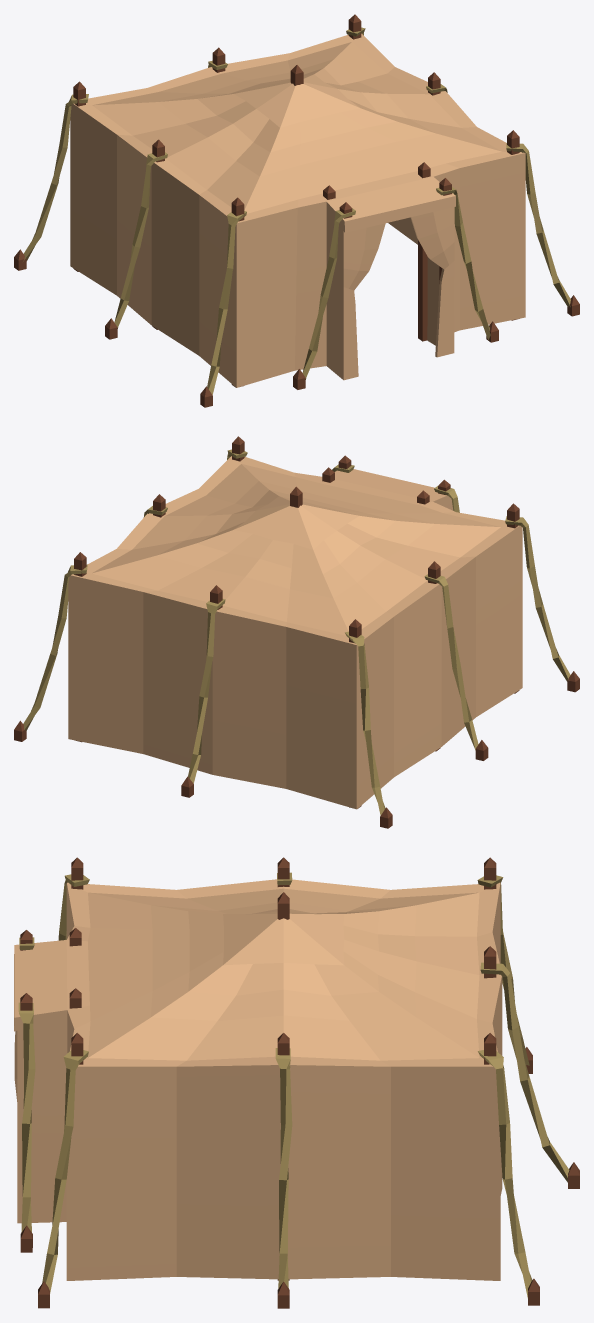
File: tent_big.fbx
3 views of the same model, one above another, from view 1: azimuth 30°, elevation 25°; view 2: azimuth 150°, elevation 25°; view 3: azimuth 270°, elevation 25° (orthographic). The views are drawn at different scales.
Visible parts, largest first — view 1: tent_big; view 2: tent_big; view 3: tent_big.
Boxes of the visible parts, bbox=[...] form: tent_big: bbox=[14, 14, 579, 407]; tent_big: bbox=[14, 436, 579, 828]; tent_big: bbox=[14, 857, 579, 1308].
Bounding box in the file's own units: 261 × 151 × 259.
